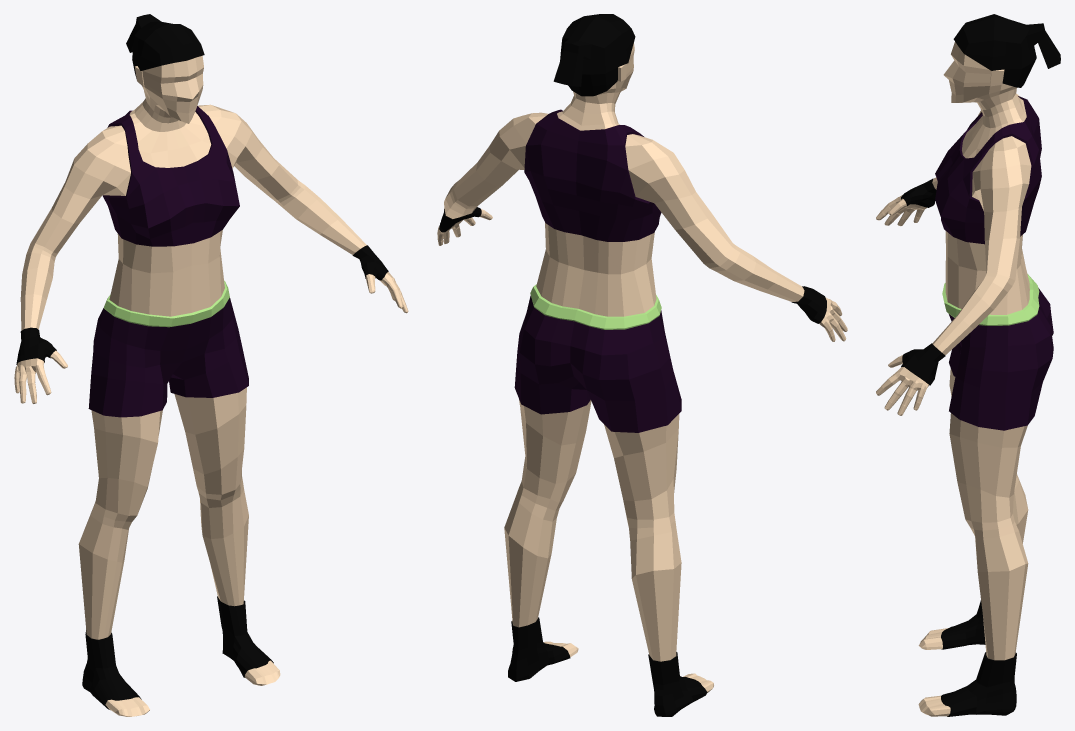
Rendered from female_fighter_01.glb.
The picture shows the model from 3 angles, left to right: view 1: azimuth 30°, elevation 25°; view 2: azimuth 150°, elevation 25°; view 3: azimuth 270°, elevation 25°; orthographic projection. The views are drawn at different scales.
Visible parts, largest first — view 1: ffighter_01.001; view 2: ffighter_01.001; view 3: ffighter_01.001.
Part boxes in pixels (box(x1,y1,x2,y2)): ffighter_01.001: box(14, 14, 408, 716); ffighter_01.001: box(437, 14, 847, 716); ffighter_01.001: box(876, 14, 1060, 716).
Size of the model in its own units: 1.21 by 1.96 by 0.4964.
1 material, 1 textured.
